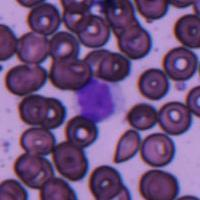L: (74, 76, 121, 123)
